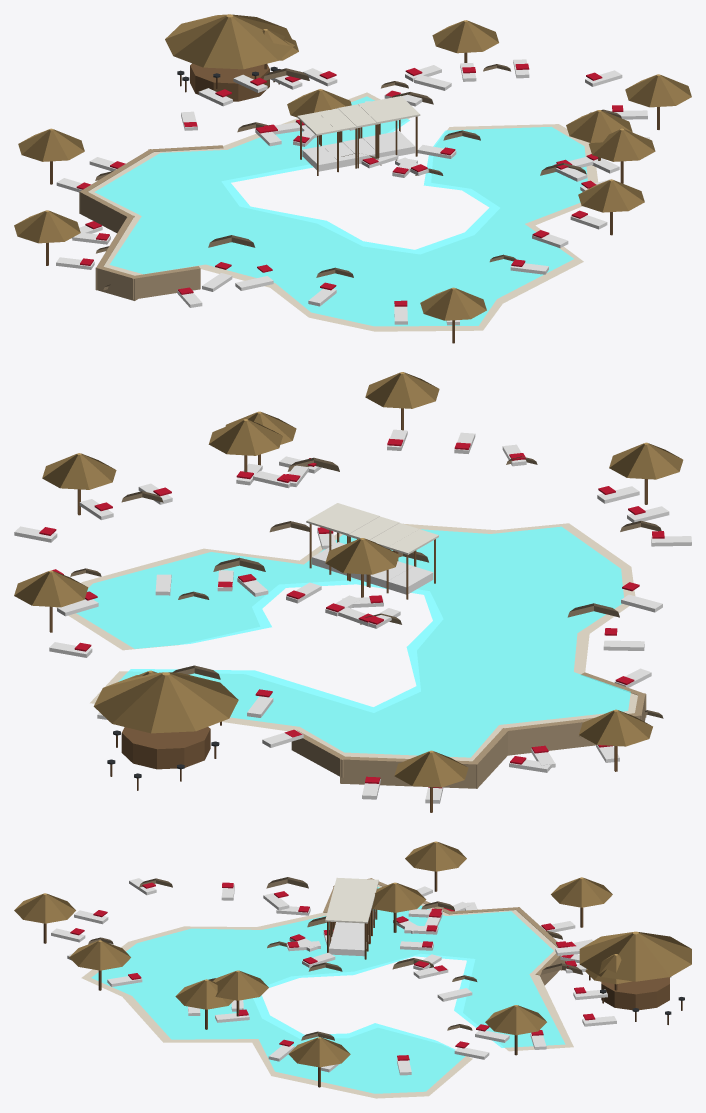
File: barcelopool.glb
The picture shows the model from 3 angles, top to bottom: view 1: azimuth 30°, elevation 25°; view 2: azimuth 150°, elevation 25°; view 3: azimuth 270°, elevation 25°; orthographic projection. The views are drawn at different scales.
Visible parts, largest first — view 1: barcelopool_lod0; view 2: barcelopool_lod0; view 3: barcelopool_lod0.
Boxes of the visible parts, bbox=[...] form: barcelopool_lod0: bbox=[14, 14, 691, 343]; barcelopool_lod0: bbox=[14, 372, 691, 812]; barcelopool_lod0: bbox=[14, 841, 691, 1098].
Size of what is drawn, in the model's own units: 38.47 by 8.02 by 41.29.
